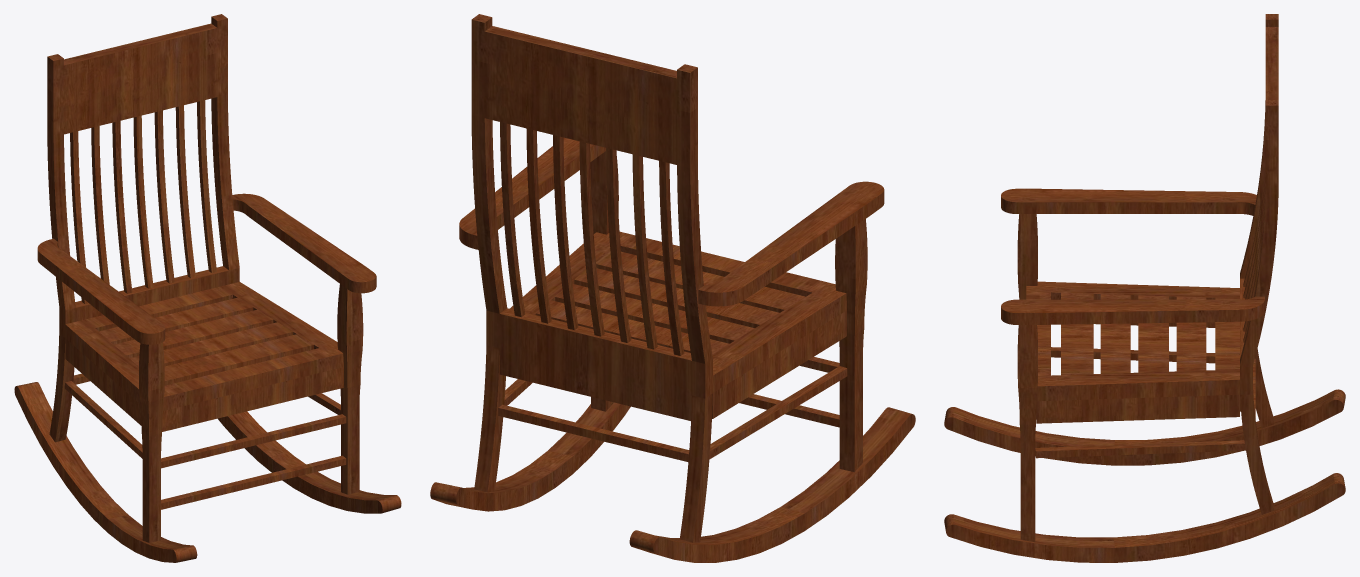
Rendered from mecedora.fbx.
The picture shows the model from 3 angles, left to right: view 1: azimuth 30°, elevation 25°; view 2: azimuth 150°, elevation 25°; view 3: azimuth 270°, elevation 25°; orthographic projection. The views are drawn at different scales.
Parts seen in each view (by area): view 1: Component_156_1, Component_33_1, Component_8_2, Component_8_1, Component_32_2, Component_15_1, Component_33_2, Component_32_1, Component_15_2, Component_37_1, Component_38_1, Component_39_1 (+10 smaller); view 2: Component_156_1, Component_33_1, Component_32_1, Component_8_1, Component_15_1, Component_33_2, Component_16_1, Component_6_1, Component_32_2, Component_6_2, Component_8_2, Component_38_1 (+8 smaller); view 3: Component_33_2, Component_33_1, Component_156_1, Component_8_2, Component_32_2, Component_32_1, Component_16_2, Component_15_2, Component_8_1, Component_23_1, Component_37_1, Component_6_2 (+5 smaller).
Part boxes in pixels (x1,y1,x2,y2): Component_156_1: (47,14,239,337); Component_33_1: (14,382,197,562); Component_8_2: (153,282,343,389); Component_8_1: (65,303,251,410); Component_32_2: (232,193,376,293); Component_15_1: (139,342,164,542); Component_33_2: (218,411,401,513); Component_32_1: (37,238,165,344); Component_15_2: (337,284,363,494); Component_37_1: (164,334,313,385); Component_38_1: (129,322,293,366); Component_39_1: (114,310,273,358); Component_156_1: (471,14,712,420); Component_33_1: (629,407,915,562); Component_32_1: (698,181,884,306); Component_8_1: (712,258,846,392); Component_15_1: (835,219,867,472); Component_33_2: (430,402,630,511); Component_16_1: (712,310,846,418); Component_6_1: (679,393,712,542); Component_32_2: (459,137,605,249); Component_6_2: (474,345,505,492); Component_8_2: (509,231,727,314); Component_38_1: (574,268,779,327); Component_33_2: (944,473,1345,562); Component_33_1: (944,389,1345,465); Component_156_1: (1240,14,1278,411); Component_8_2: (1036,334,1239,401); Component_32_2: (1001,296,1264,324); Component_32_1: (1001,188,1256,215); Component_16_2: (1036,394,1239,423); Component_15_2: (1017,325,1037,542); Component_8_1: (1026,281,1239,333); Component_23_1: (1035,440,1245,458); Component_37_1: (1061,292,1093,375); Component_6_2: (1240,390,1274,514).
Bounding box in the file's own units: 0.8508 × 1.43 × 1.16.
